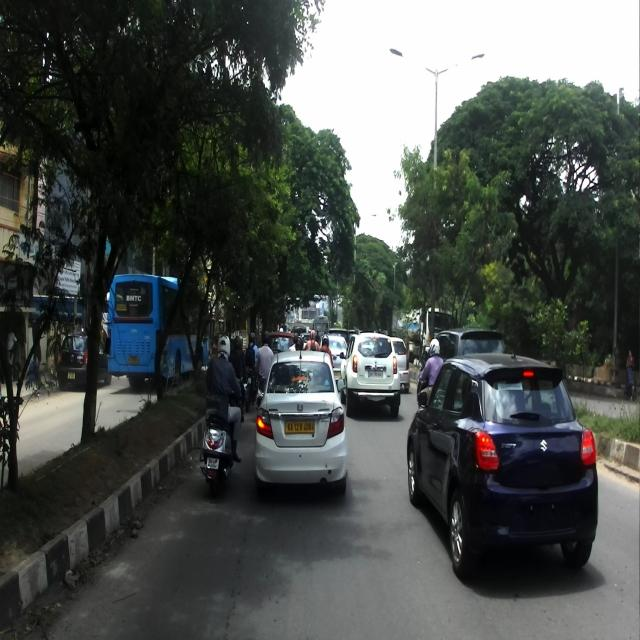bus: (106, 272, 212, 390)
car: (406, 352, 598, 576), (254, 348, 347, 501), (422, 326, 508, 392), (338, 328, 401, 417)
scooter: (199, 377, 247, 496)
